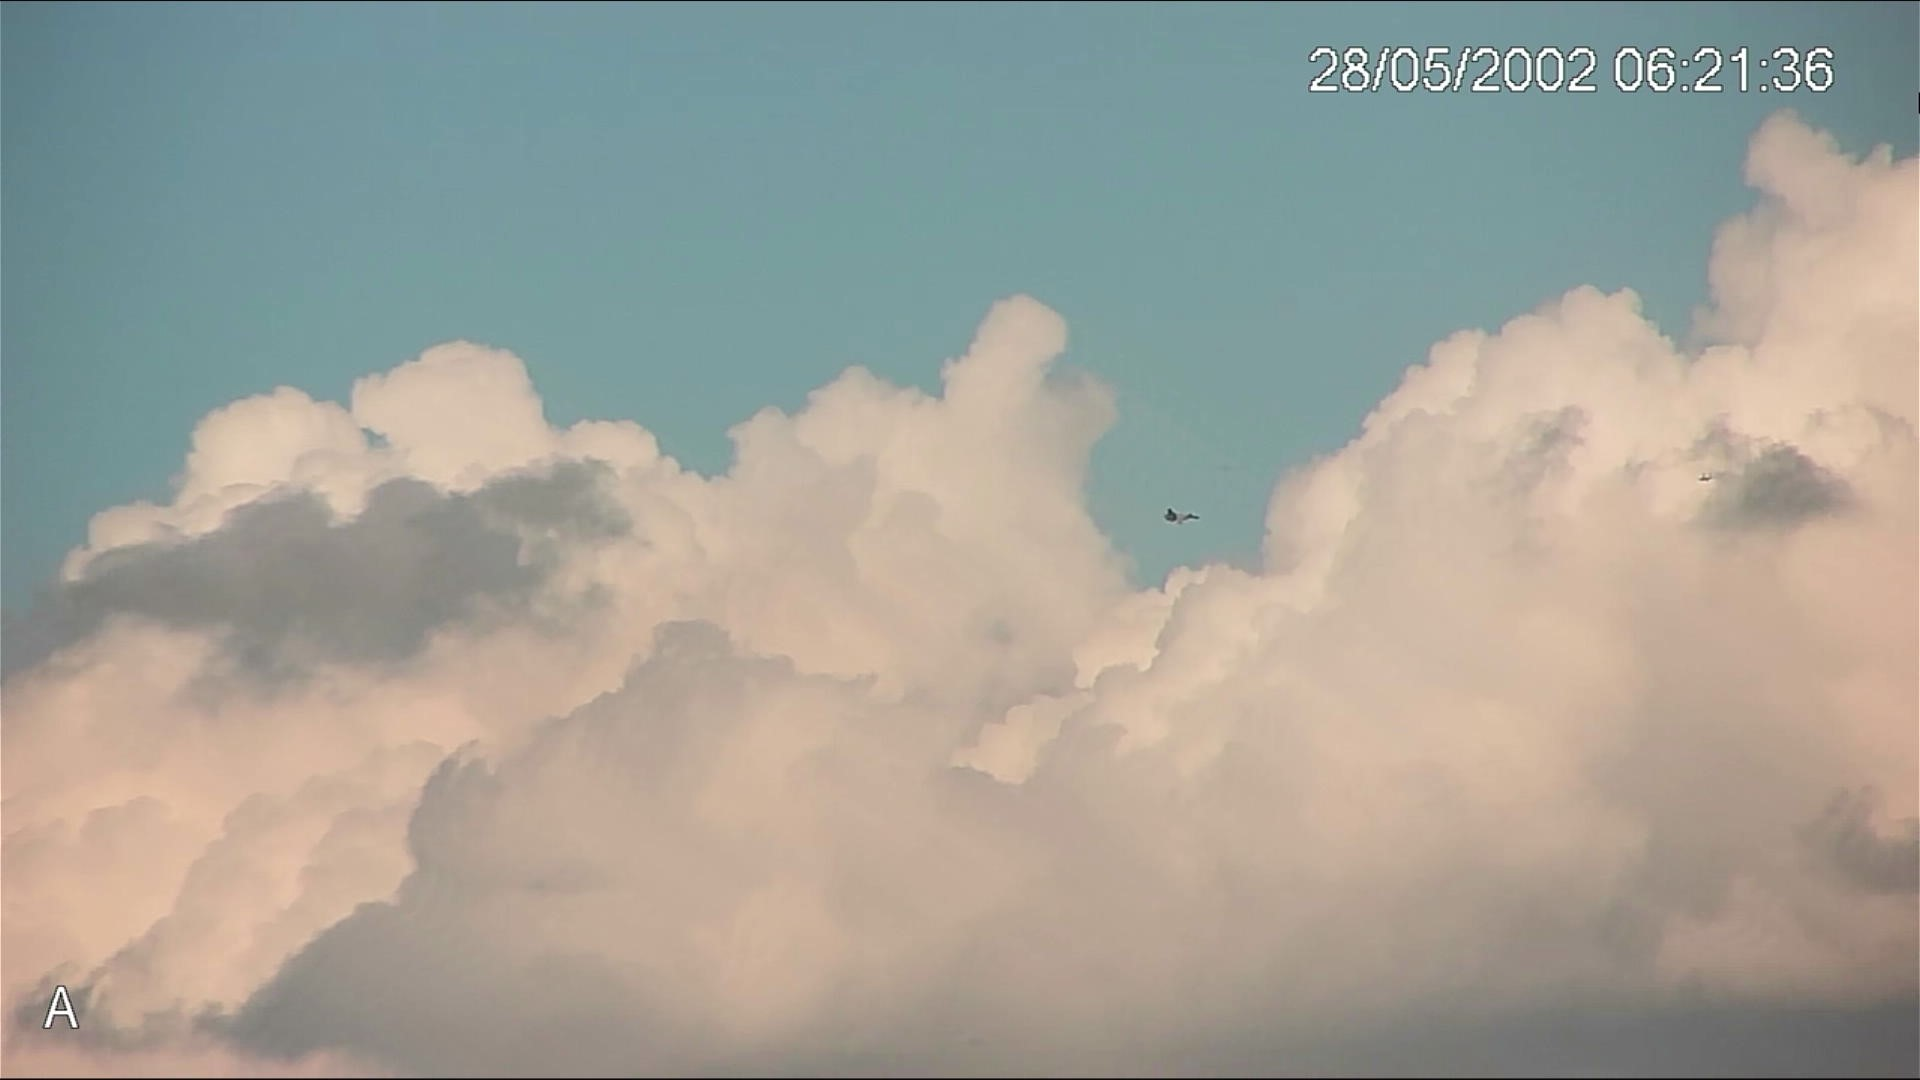SU_30: (1164, 506, 1197, 524)
